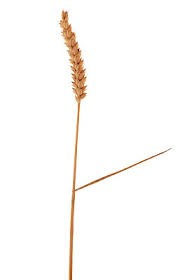wheat: (54, 11, 88, 100)
